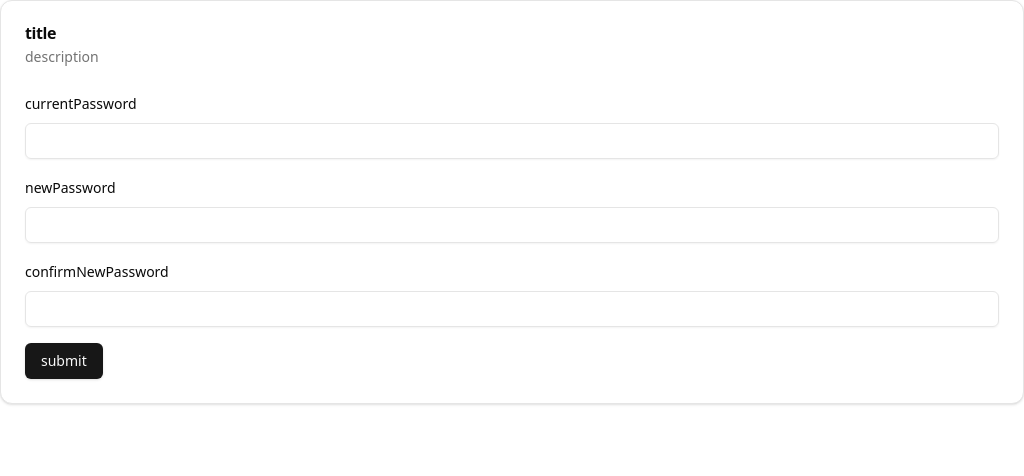
Test case: PasswordForm › shows validation error when current password is empty
Click the button "submit".
click(64, 361)  # box left=25, top=343, right=103, bottom=379
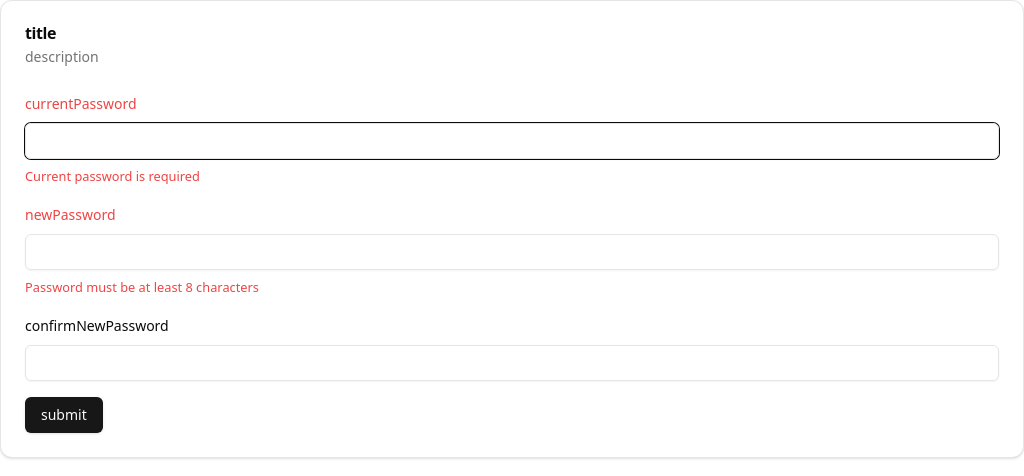
Expected: the text "Current password is required" is shown, left=25, top=167, right=200, bottom=185
